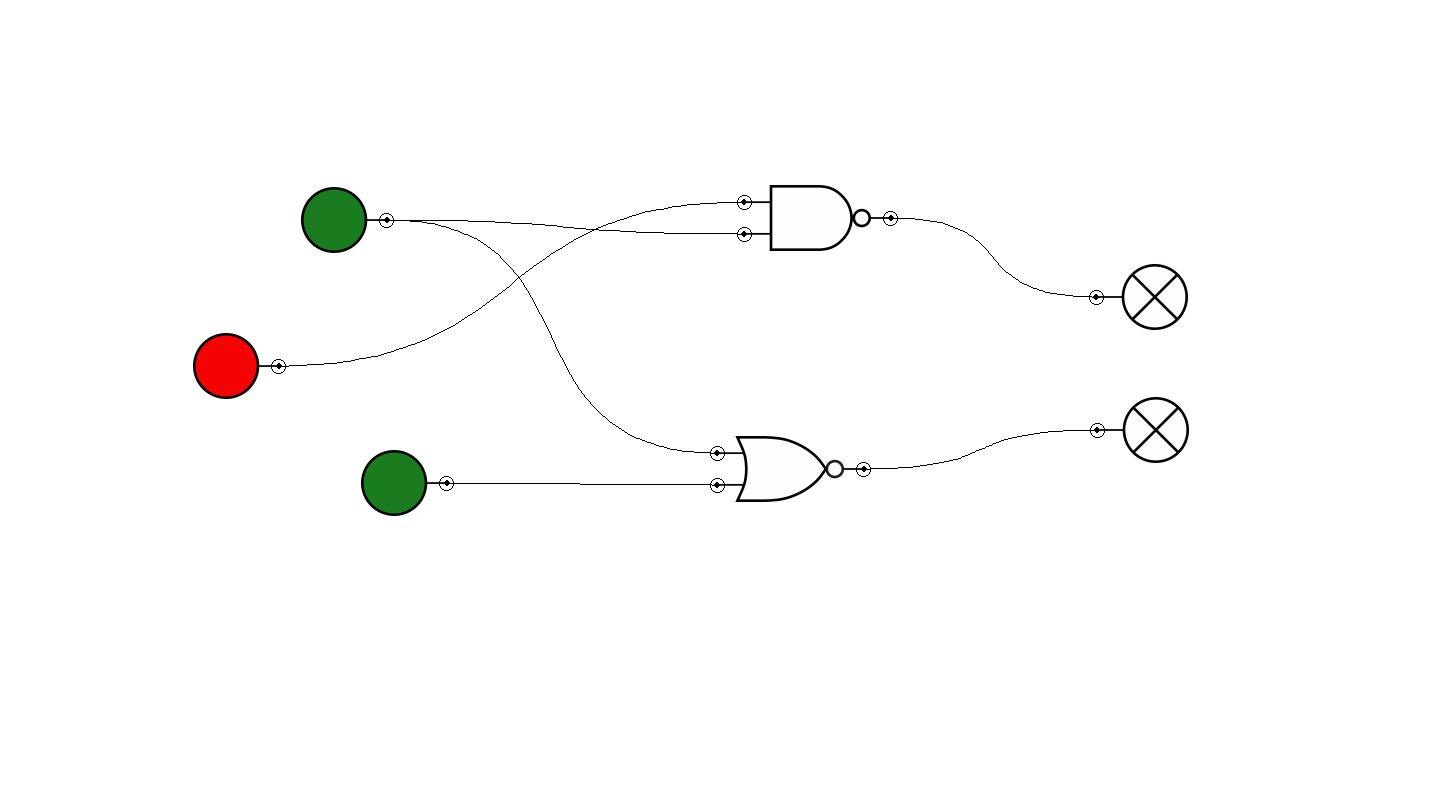bulb: (1090, 397, 1189, 463), (1089, 264, 1188, 330)
nand: (737, 185, 898, 251)
nor: (710, 436, 871, 502)
switch_False: (193, 333, 286, 399)
switch_True: (301, 187, 394, 253), (361, 450, 454, 516)
